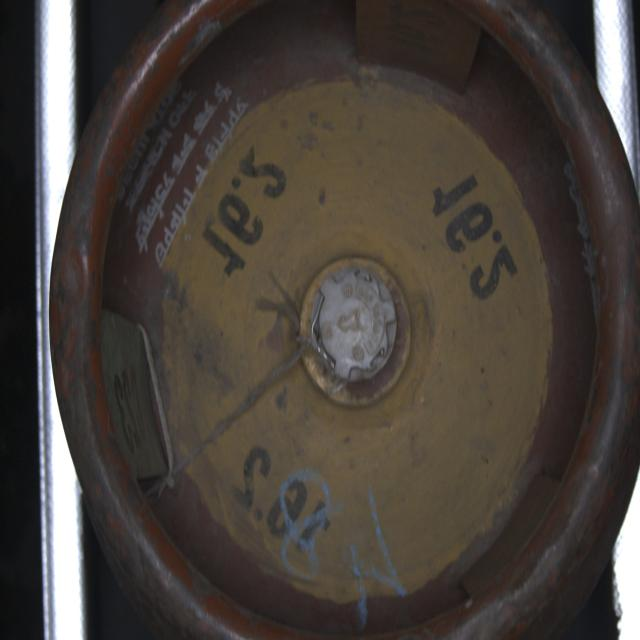Cap: (307, 266, 402, 387)
